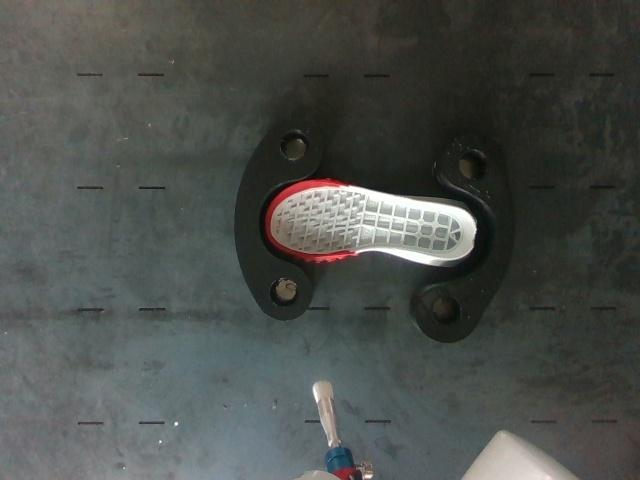shoes: (267, 181, 476, 258)
